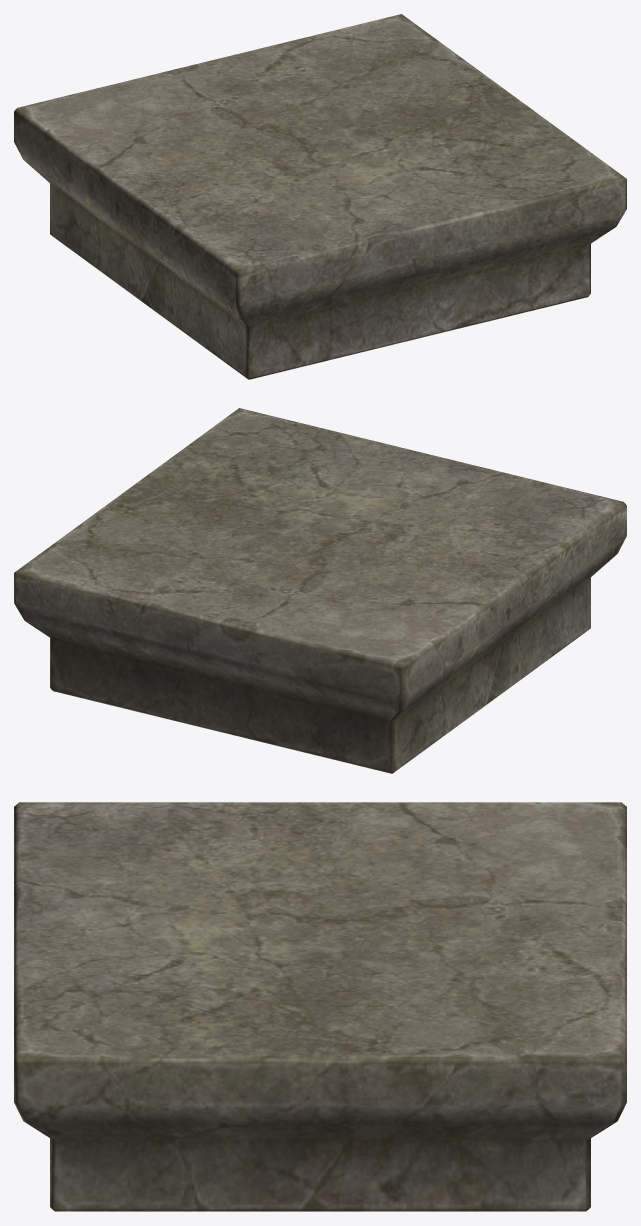
File: SM_Abacus_02.fbx
3 views of the same model, one above another, from view 1: azimuth 30°, elevation 25°; view 2: azimuth 150°, elevation 25°; view 3: azimuth 270°, elevation 25° (orthographic). The views are drawn at different scales.
Parts seen in each view (by area): view 1: SM_Abacus_02_LOD0; view 2: SM_Abacus_02_LOD0; view 3: SM_Abacus_02_LOD0.
Part boxes in pixels (bbox=[...]): SM_Abacus_02_LOD0: bbox=[14, 14, 626, 379]; SM_Abacus_02_LOD0: bbox=[14, 408, 626, 773]; SM_Abacus_02_LOD0: bbox=[14, 802, 626, 1211].
Size of what is drawn, in the model's own units: 181 by 55.24 by 181.
